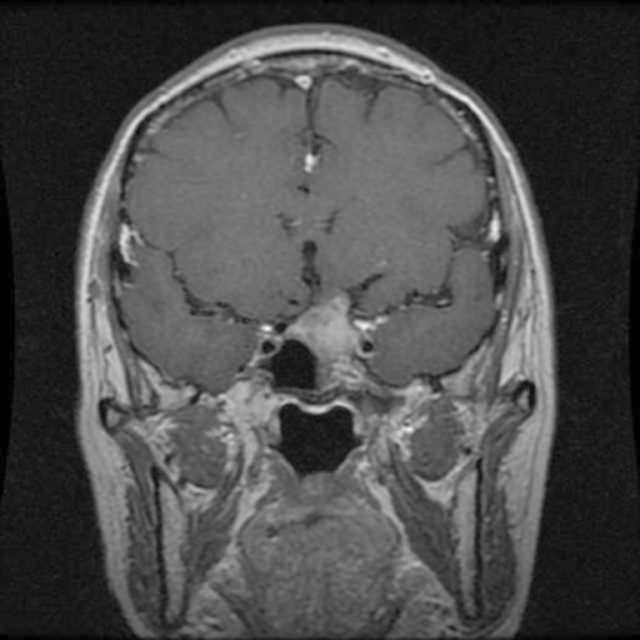no tumor: (282, 300, 368, 385)
